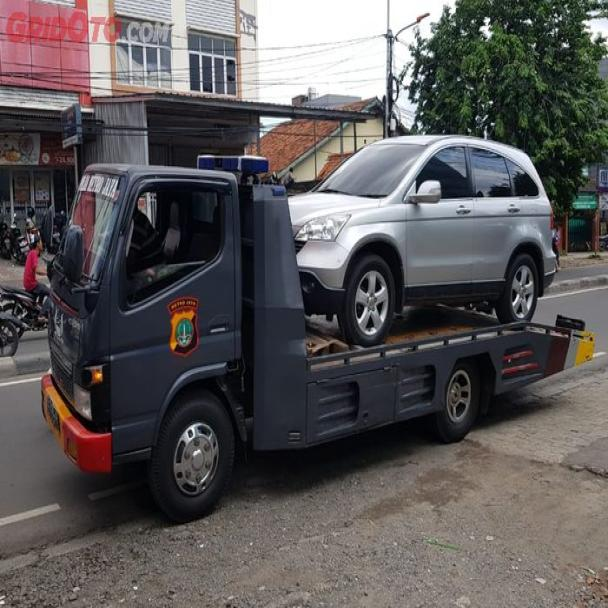Mobil: (45, 157, 591, 491), (286, 130, 562, 332)
